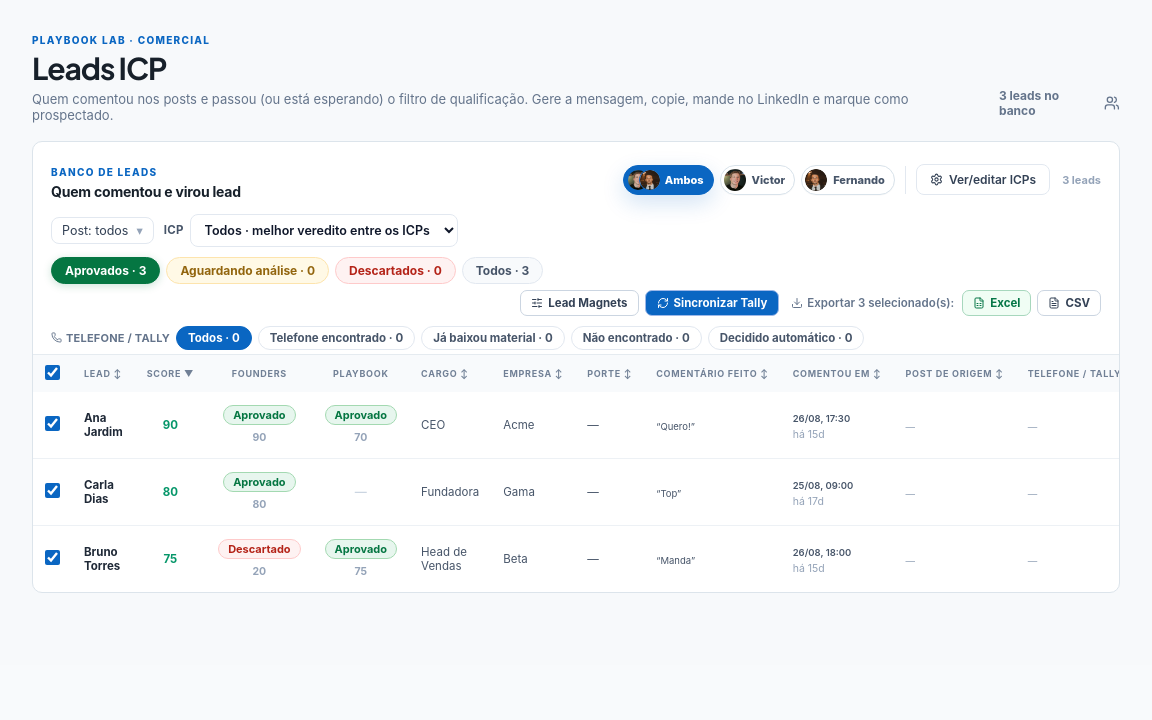
Scenario: Leads ICP: colunas por ICP e horário do comentário › filtra a lista por um ICP e some quem aquele ICP não aprovou
This screenshot has width=1152, height=720.
Select "Playbook" in the dropdown named "Filtrar leads pelo ICP que os qualificou" at (324, 230), box [190,214,458,247]
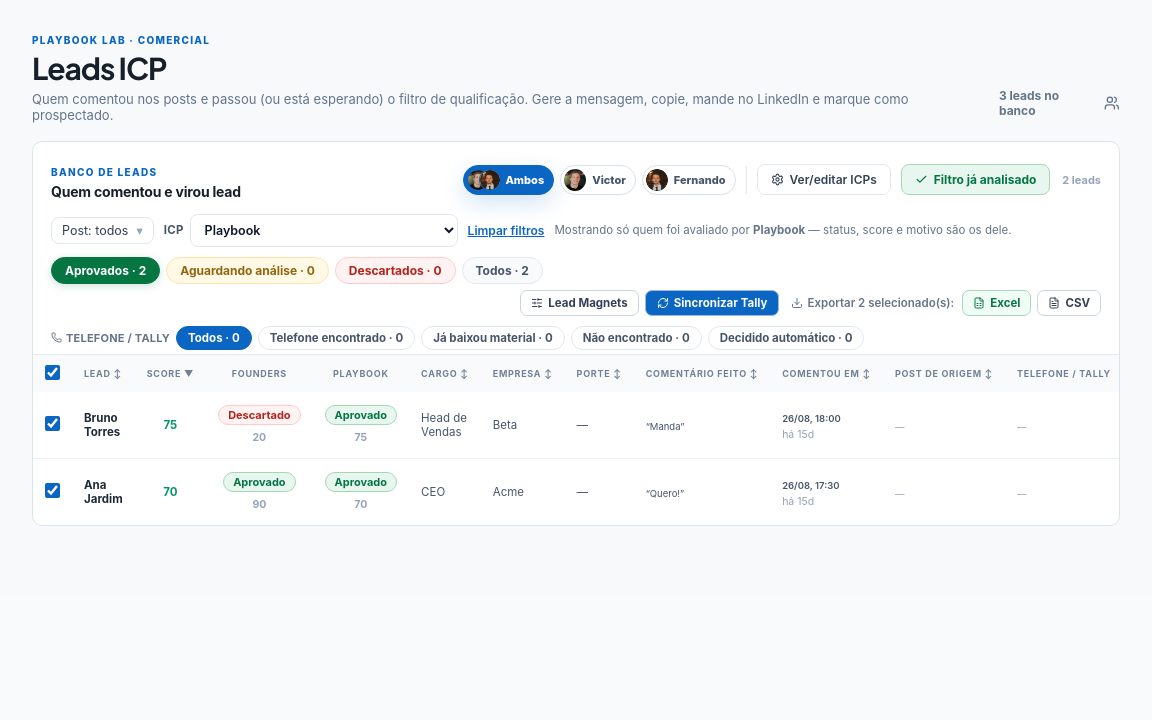
Expected: the text "Ana Jardim" is shown, [84,478,123,506]
Expected: the text "Carla Dias" is gone
